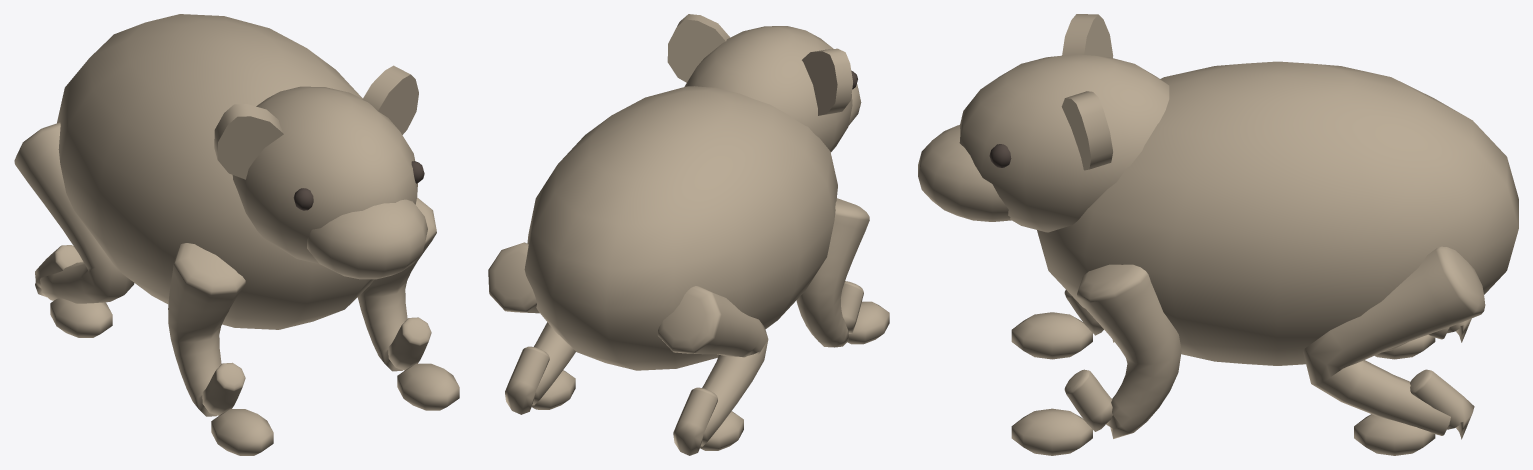
Rendered from savanna-wildlife-rock-hyrax-ee06feaf__6556.glb.
The picture shows the model from 3 angles, left to right: view 1: azimuth 30°, elevation 25°; view 2: azimuth 150°, elevation 25°; view 3: azimuth 270°, elevation 25°; orthographic projection. The views are drawn at different scales.
Visible parts, largest first — view 1: rock-hyrax; view 2: rock-hyrax; view 3: rock-hyrax.
Part boxes in pixels (bbox=[...]): rock-hyrax: bbox=[14, 14, 459, 455]; rock-hyrax: bbox=[488, 14, 889, 455]; rock-hyrax: bbox=[918, 14, 1518, 455].
Bounding box in the file's own units: 0.34 × 0.4034 × 0.6315.
